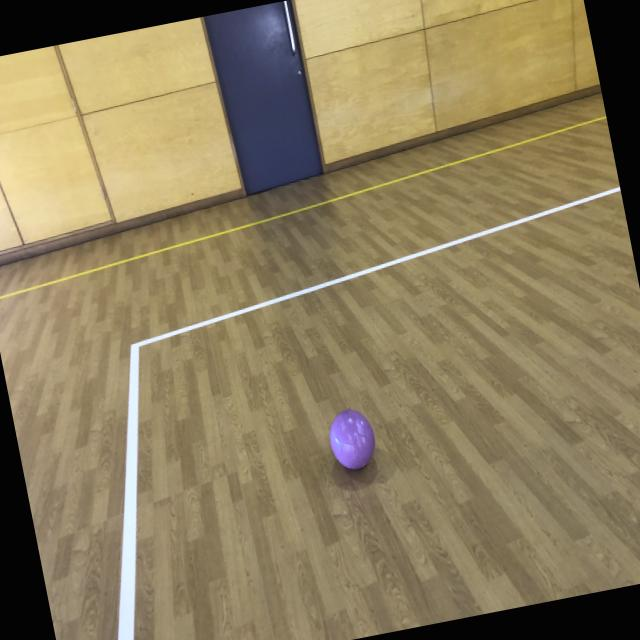purple_ball: (324, 406, 379, 474)
